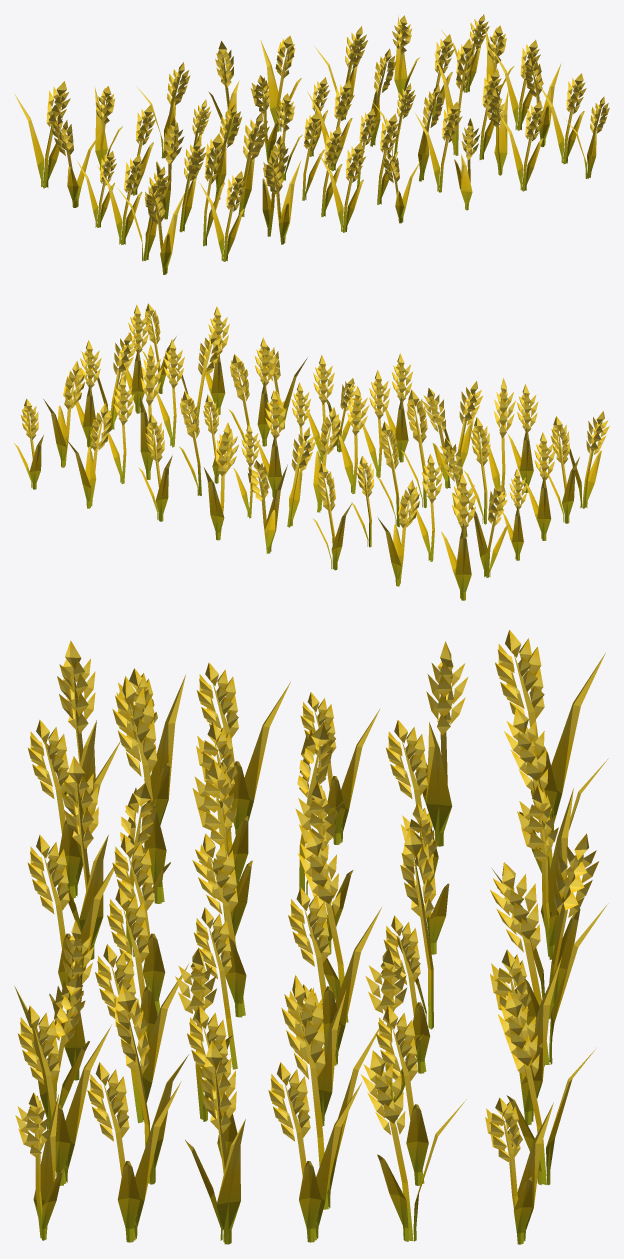
File: SM_Paddy.fbx
The picture shows the model from 3 angles, top to bottom: view 1: azimuth 30°, elevation 25°; view 2: azimuth 150°, elevation 25°; view 3: azimuth 270°, elevation 25°; orthographic projection. The views are drawn at different scales.
Visible parts, largest first — view 1: SM_Paddy; view 2: SM_Paddy; view 3: SM_Paddy.
Part boxes in pixels (x1,y1,x2,y2): SM_Paddy: (15,14,609,274); SM_Paddy: (14,303,609,600); SM_Paddy: (14,630,608,1244).
Size of the model in its own units: 748 by 201 by 424.
